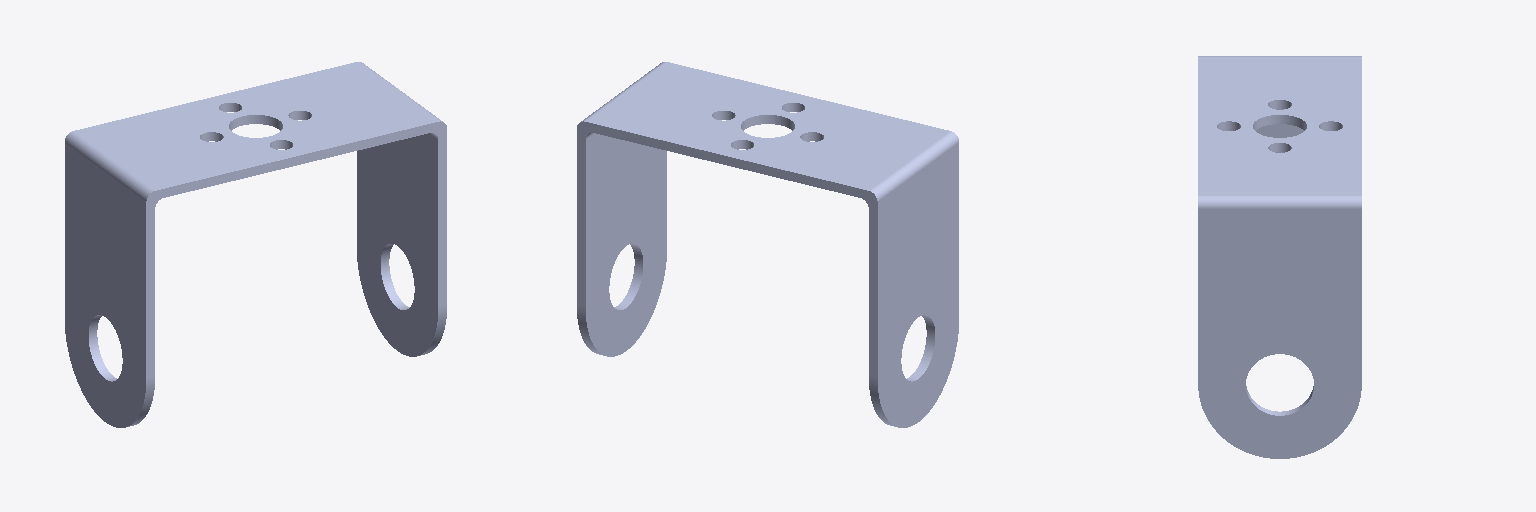
File: sujetador_Eje.obj
3 views of the same model, side by side, from view 1: azimuth 30°, elevation 25°; view 2: azimuth 150°, elevation 25°; view 3: azimuth 270°, elevation 25° (orthographic).
Visible parts, largest first — view 1: Cut_Extrude4; view 2: Cut_Extrude4; view 3: Cut_Extrude4.
Part boxes in pixels (left/top/right/bottom): Cut_Extrude4: left=65, top=62, right=446, bottom=427; Cut_Extrude4: left=577, top=62, right=958, bottom=427; Cut_Extrude4: left=1198, top=56, right=1361, bottom=458.
Size of the model in its own units: 20.08 by 16.54 by 9.45.